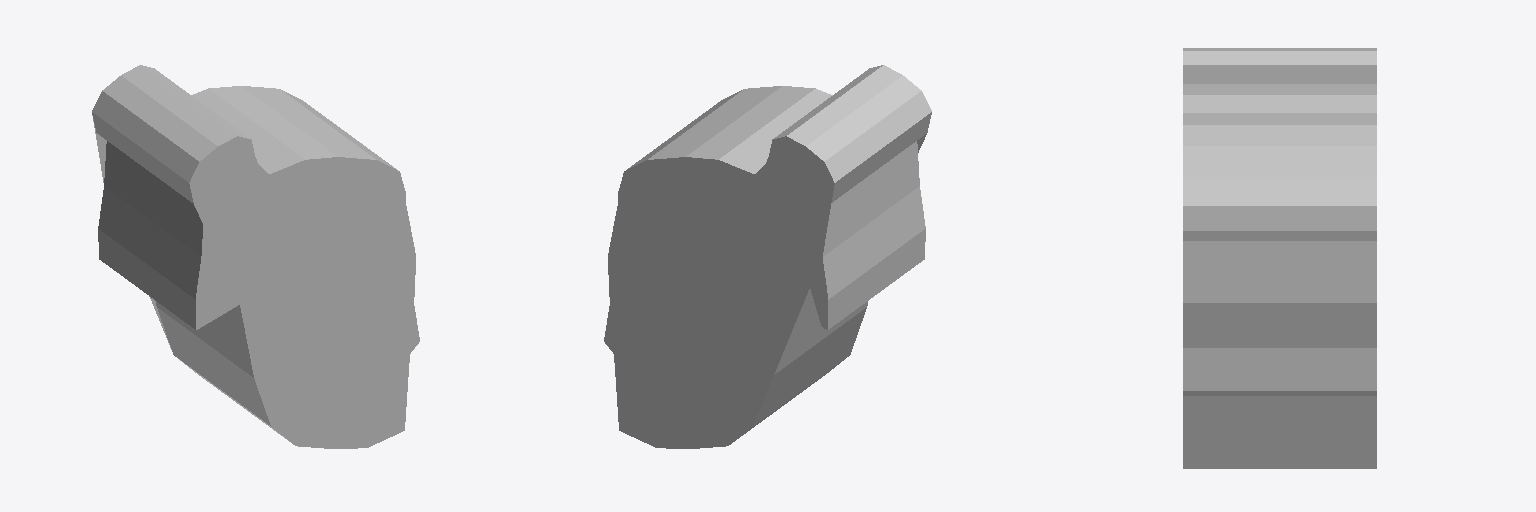
Rendered from beauHead.obj.
3 views of the same model, side by side, from view 1: azimuth 30°, elevation 25°; view 2: azimuth 150°, elevation 25°; view 3: azimuth 270°, elevation 25° (orthographic).
Visible parts, largest first — view 1: Cube.001_Cube.000; view 2: Cube.001_Cube.000; view 3: Cube.001_Cube.000.
Part boxes in pixels (x1,y1,x2,y2): Cube.001_Cube.000: (92,65,419,448); Cube.001_Cube.000: (604,65,931,448); Cube.001_Cube.000: (1183,48,1376,468).
Bounding box in the file's own units: 0.4572 × 0.6501 × 0.334.